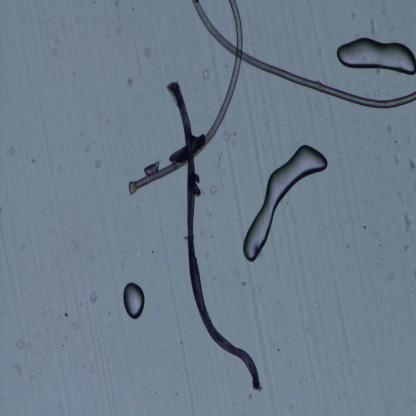Air bubble: (242, 144, 329, 262), (336, 36, 416, 75), (121, 280, 146, 321)
Background material: (223, 129, 239, 148), (47, 42, 62, 60), (402, 212, 414, 233), (122, 73, 135, 89), (369, 224, 381, 241), (394, 241, 412, 252), (68, 239, 82, 253), (406, 157, 416, 175), (382, 272, 398, 283), (393, 148, 402, 167), (111, 126, 126, 137), (87, 292, 99, 305), (17, 340, 29, 352), (385, 123, 396, 135), (208, 183, 218, 196), (142, 46, 151, 60), (96, 160, 104, 175), (72, 317, 80, 331), (16, 359, 22, 377), (12, 144, 18, 156), (119, 21, 124, 35), (202, 71, 210, 79)
Cotton: (166, 81, 263, 392)
Microfibre: (193, 0, 416, 110), (127, 1, 243, 195)
